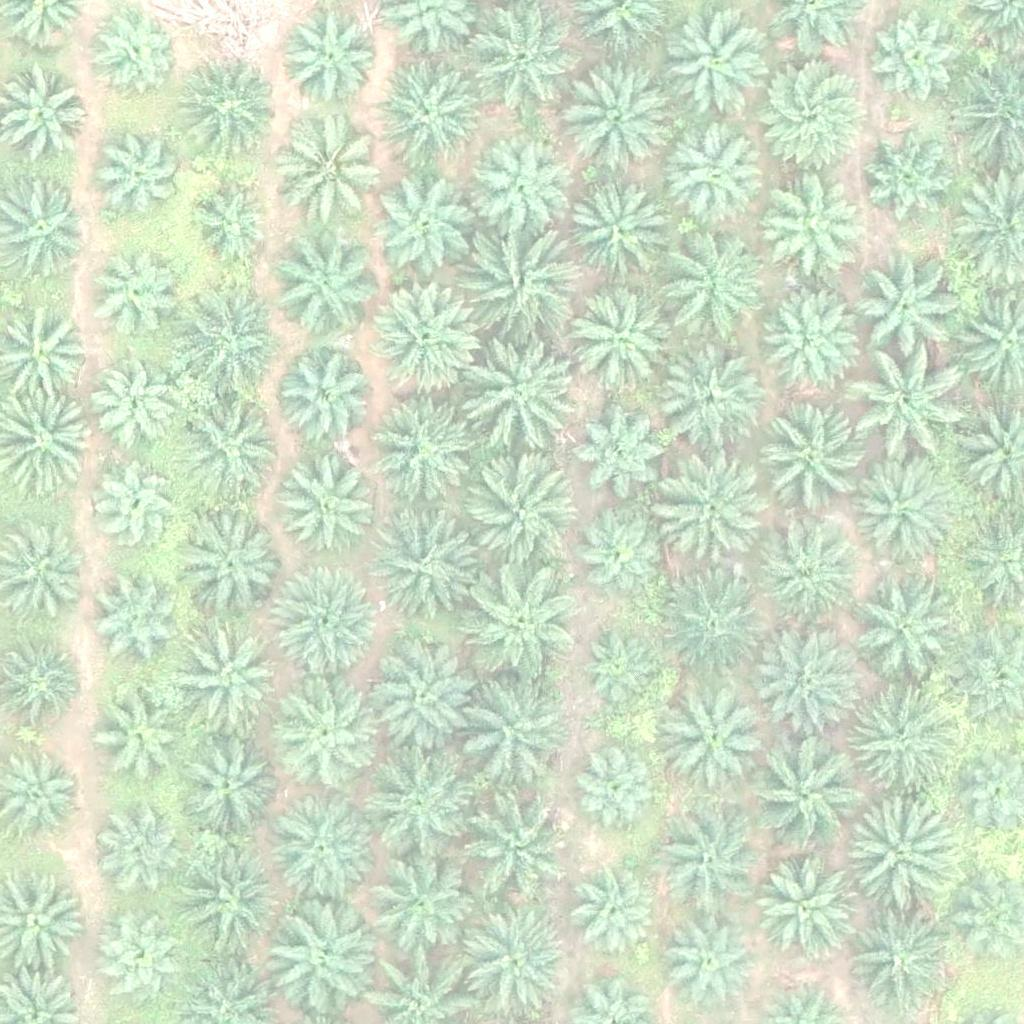Kelapa_Sawit: (652, 348, 765, 462), (370, 505, 483, 619), (462, 904, 575, 1017), (258, 908, 371, 1021), (845, 454, 958, 567), (849, 571, 962, 684), (842, 687, 955, 800), (755, 401, 868, 514), (460, 231, 573, 344), (469, 460, 582, 573), (363, 641, 476, 754), (370, 395, 483, 508), (267, 232, 380, 345), (269, 567, 382, 680), (175, 629, 288, 742), (173, 387, 286, 500), (174, 287, 287, 400), (750, 52, 863, 165), (657, 9, 770, 122), (368, 53, 481, 166), (759, 853, 871, 967), (464, 565, 576, 679), (173, 843, 285, 957), (847, 350, 959, 463), (849, 800, 961, 913), (750, 732, 862, 845), (746, 623, 858, 736), (659, 230, 771, 343), (660, 462, 772, 575), (659, 564, 771, 677), (660, 683, 772, 796), (649, 804, 761, 917), (565, 283, 677, 396), (466, 343, 578, 456), (455, 675, 567, 788), (460, 785, 572, 898), (362, 840, 474, 953), (361, 749, 473, 862), (369, 279, 481, 392), (268, 796, 380, 909), (563, 58, 675, 171), (467, 3, 579, 116), (277, 116, 389, 229), (761, 528, 861, 629), (767, 291, 867, 392), (572, 405, 672, 506), (272, 350, 372, 451), (280, 454, 380, 555), (276, 691, 376, 792), (172, 735, 272, 836), (183, 518, 283, 619), (857, 123, 957, 224), (756, 173, 856, 274), (665, 122, 765, 223), (562, 184, 662, 285), (471, 139, 571, 240), (371, 174, 471, 275), (283, 8, 383, 109), (662, 907, 762, 1007), (850, 262, 950, 362), (870, 4, 970, 104), (177, 62, 277, 162), (86, 254, 174, 342), (90, 366, 178, 454), (95, 692, 183, 780), (100, 812, 188, 900), (186, 175, 274, 263), (573, 866, 660, 954), (573, 742, 660, 830), (584, 509, 671, 597), (92, 463, 179, 551), (93, 582, 180, 670), (95, 917, 182, 1005), (93, 129, 180, 217), (90, 6, 177, 94), (582, 632, 657, 708)
